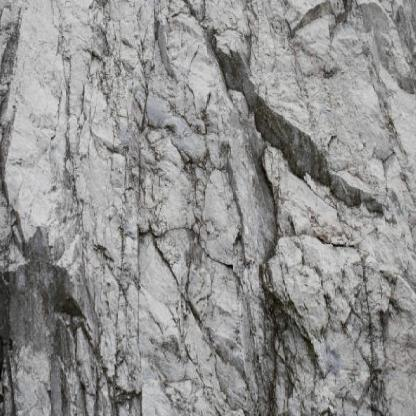Metamorphic_Marble: (241, 142, 375, 415), (208, 6, 388, 196), (1, 0, 93, 290)
